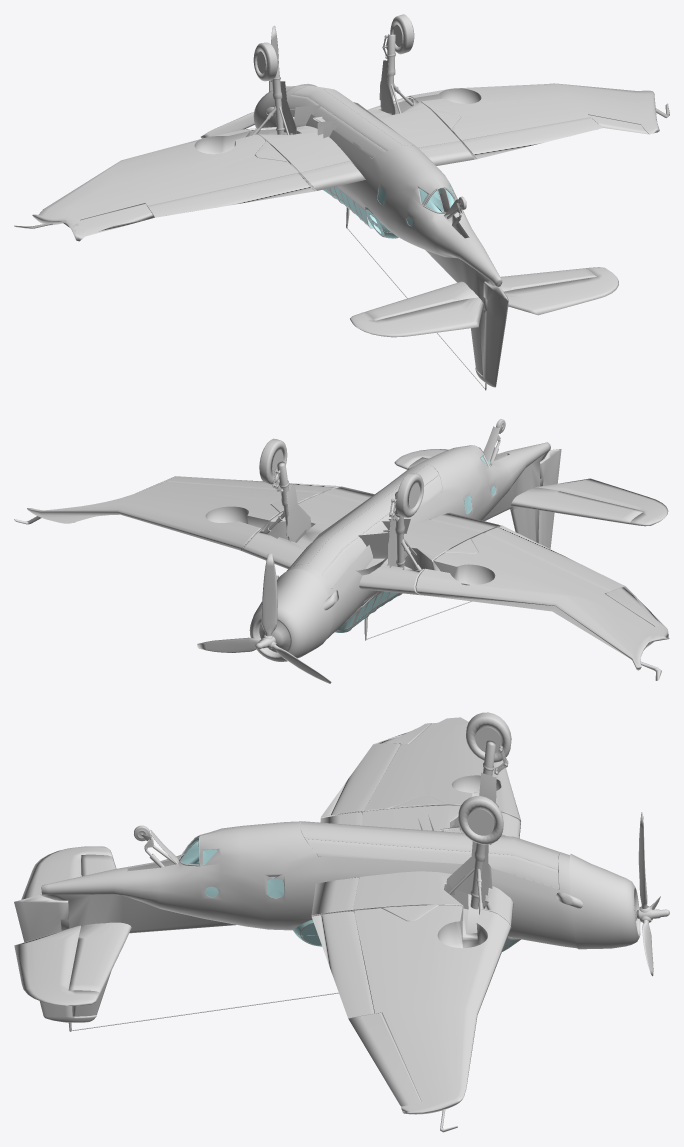
The model's file is TBM3_Avenger.fbx.
The picture shows the model from 3 angles, top to bottom: view 1: azimuth 30°, elevation 25°; view 2: azimuth 150°, elevation 25°; view 3: azimuth 270°, elevation 25°; orthographic projection. The views are drawn at different scales.
Visible parts, largest first — view 1: TBM-3 Avenger, glass, propeller; view 2: TBM-3 Avenger, propeller, glass; view 3: TBM-3 Avenger, propeller, glass.
Boxes of the visible parts, x1,y1,x2,y2 form: TBM-3 Avenger: (14,14,669,390); glass: (323,182,454,238); propeller: (201,25,278,138); TBM-3 Avenger: (14,419,669,680); propeller: (197,553,331,683); glass: (335,456,495,632); TBM-3 Avenger: (14,712,640,1132); propeller: (636,812,669,976); glass: (181,837,517,951).
Size of the model in its own units: 1655 by 587 by 1210.
